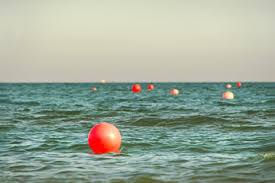buoy: (88, 122, 122, 153), (132, 84, 141, 92), (148, 85, 153, 89), (237, 82, 241, 87)
